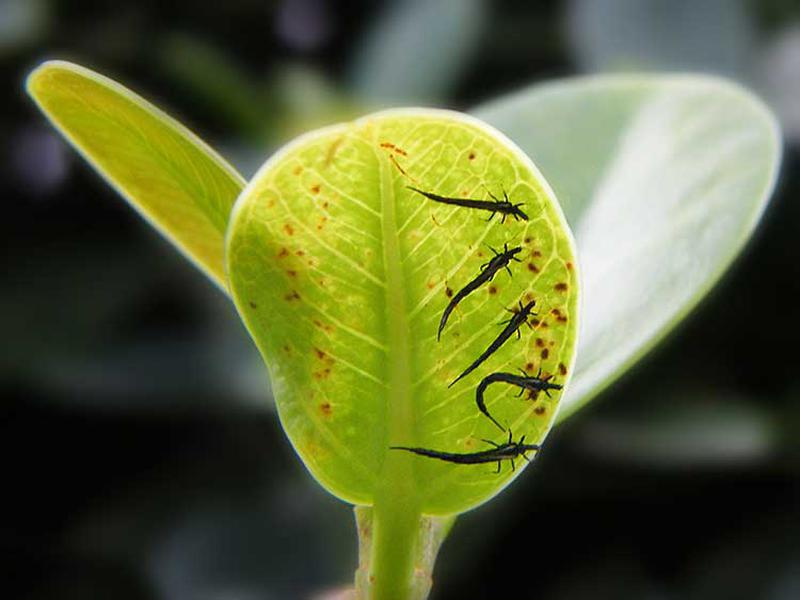Thrips: (375, 162, 562, 494)
